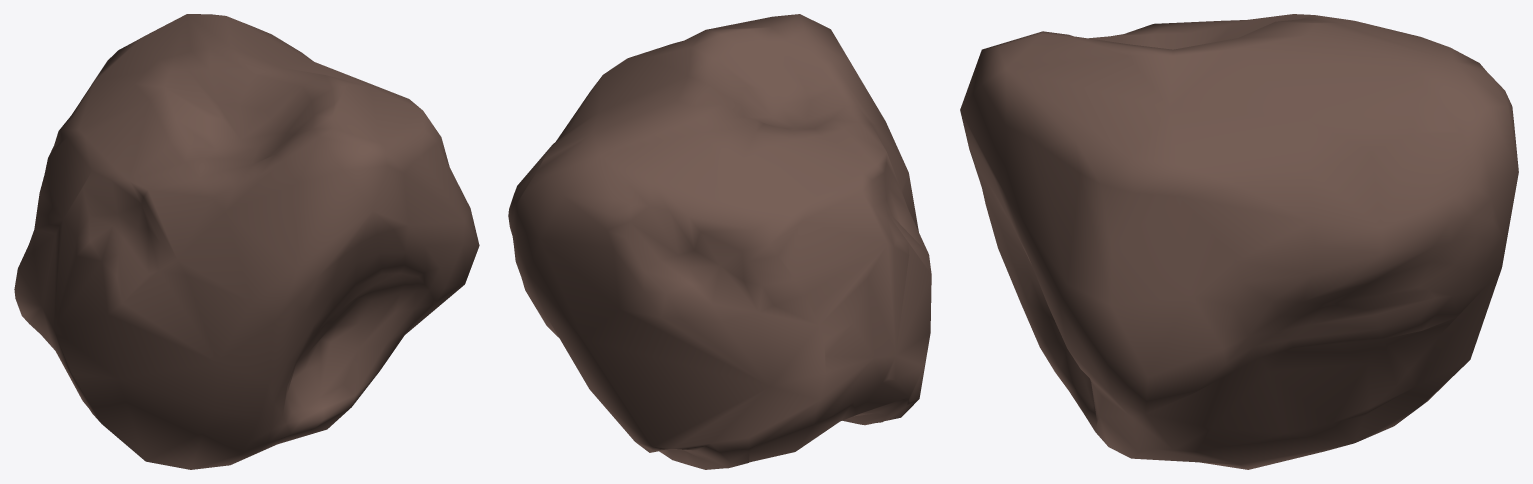
Rendered from SM_Asteroid_Medium2.fbx.
3 views of the same model, side by side, from view 1: azimuth 30°, elevation 25°; view 2: azimuth 150°, elevation 25°; view 3: azimuth 270°, elevation 25° (orthographic). The views are drawn at different scales.
Visible parts, largest first — view 1: Asteroid_C; view 2: Asteroid_C; view 3: Asteroid_C.
Part boxes in pixels (bbox=[...]): Asteroid_C: bbox=[14, 14, 479, 469]; Asteroid_C: bbox=[508, 14, 931, 469]; Asteroid_C: bbox=[960, 14, 1518, 469].
Size of the model in its own units: 49.98 by 43.94 by 52.37.
